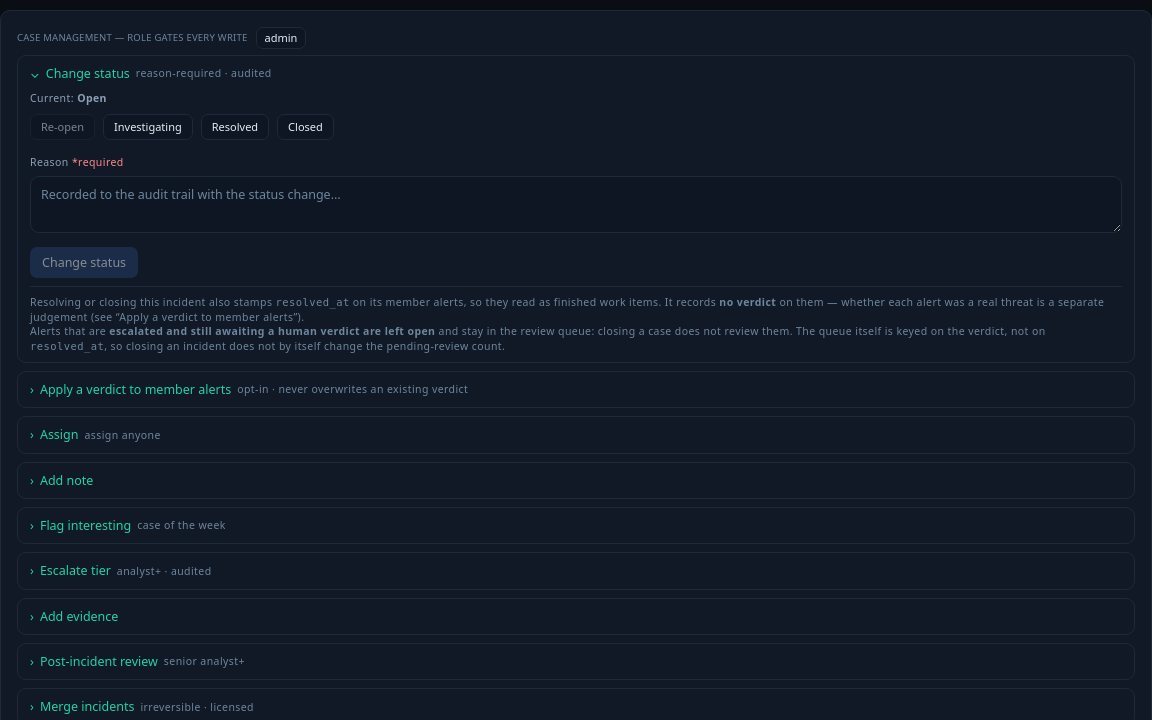
WO-H85 verdict propagation control › sends confirm:true only after the analyst opts in
The width and height of the screenshot is (1152, 720).
Click the text "Apply a verdict to member alerts": [136, 390] box [40,380,231,399]
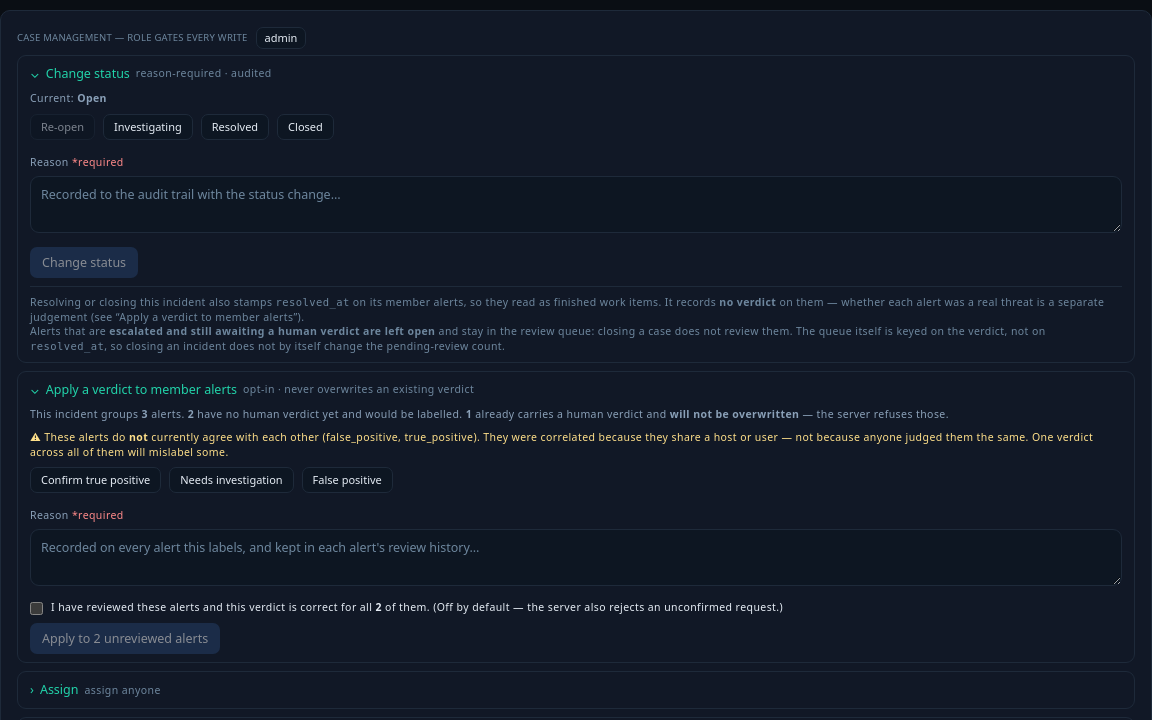
Click the radio button labelled "False positive": [347, 480] box [302,467,393,493]
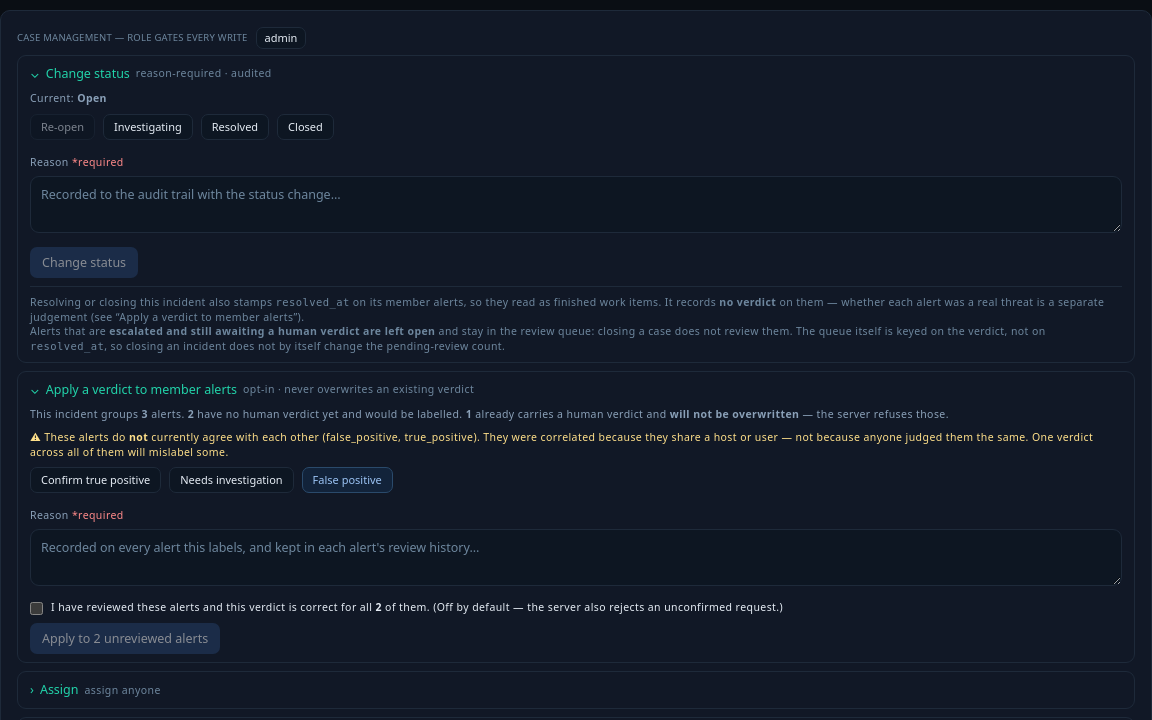
Replace the text in the text box with placeholder "Recorded on every alert" below "⚠ These alerts do" with "package management window": [576, 558] box [30,529,1122,586]
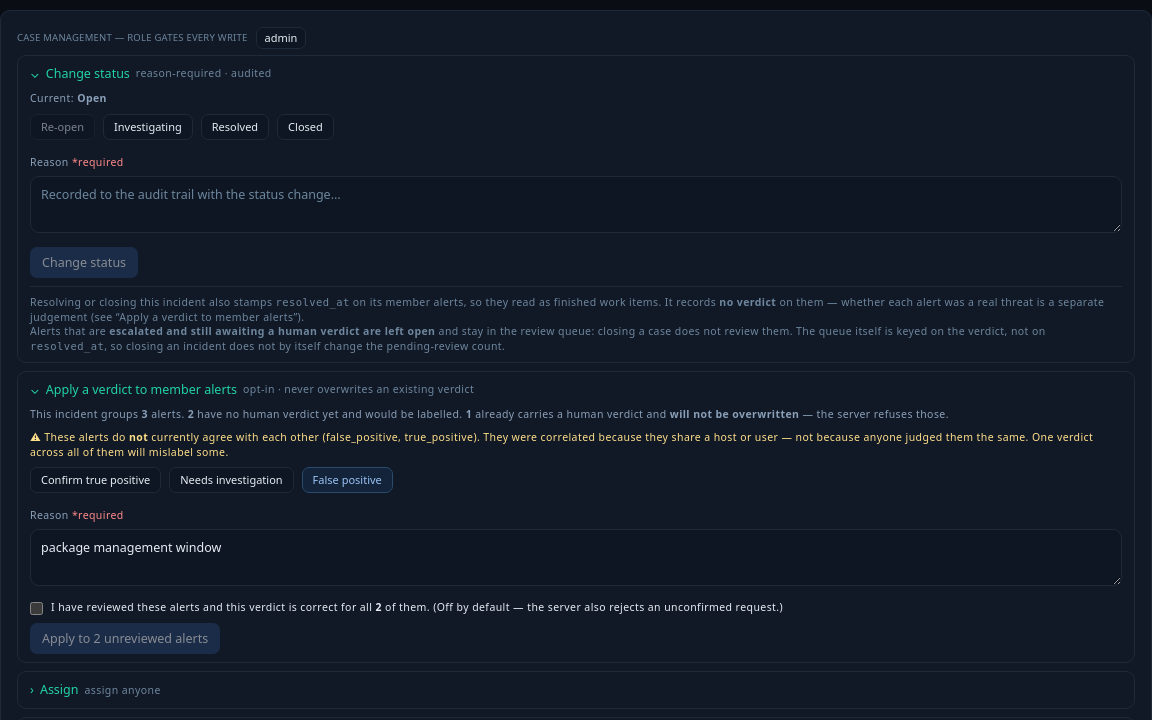
Click the checkbox: [36, 608] box [30,602,43,615]
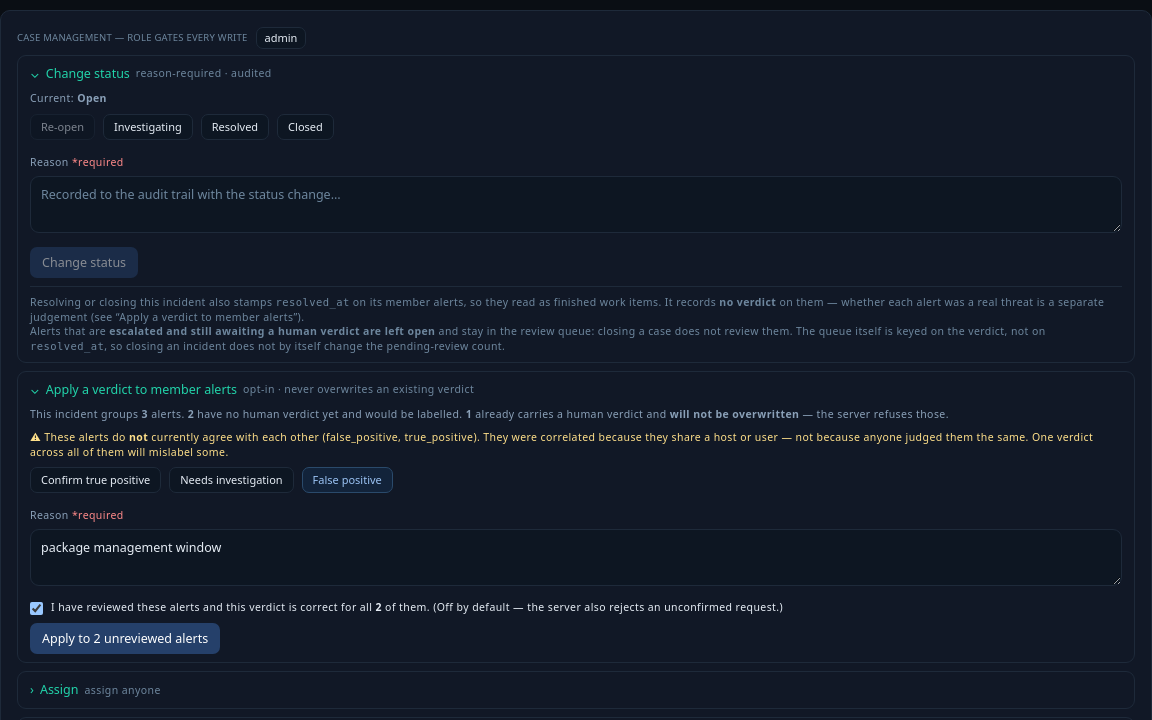
Now the button "Apply to 2 unreviewed alerts" is enabled
Click the button "Apply to 2 unreviewed alerts": [125, 639] box [30,623,220,654]
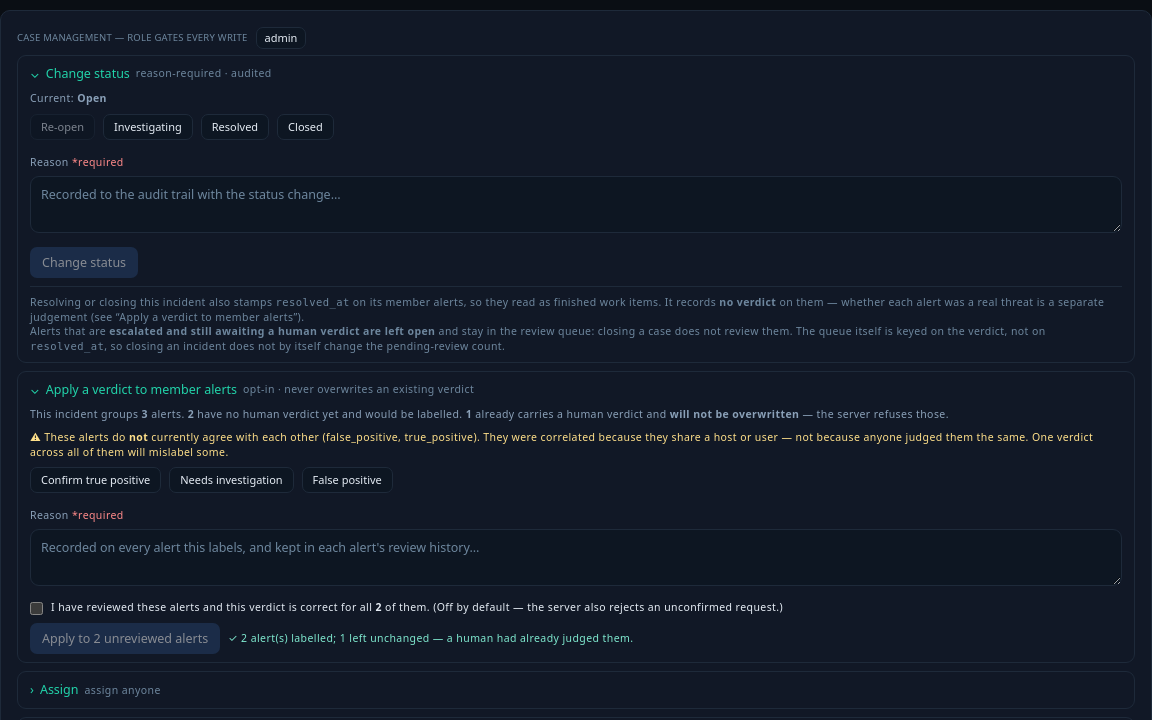
Now the text "✓ 2 alert(s) labelled; 1 left unchanged — a human had already judged them." is shown, box [228,631,634,646]
